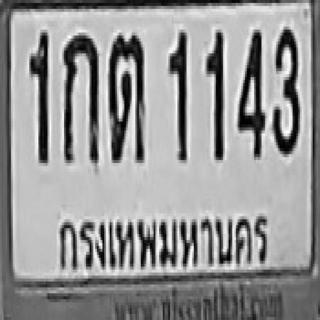A01: (62, 33, 99, 163)
A21: (108, 32, 143, 160)
N01: (28, 30, 48, 163), (205, 28, 223, 158), (168, 30, 186, 160)
N03: (272, 27, 299, 154)
N04: (235, 27, 264, 157)
P04: (53, 204, 274, 280)
